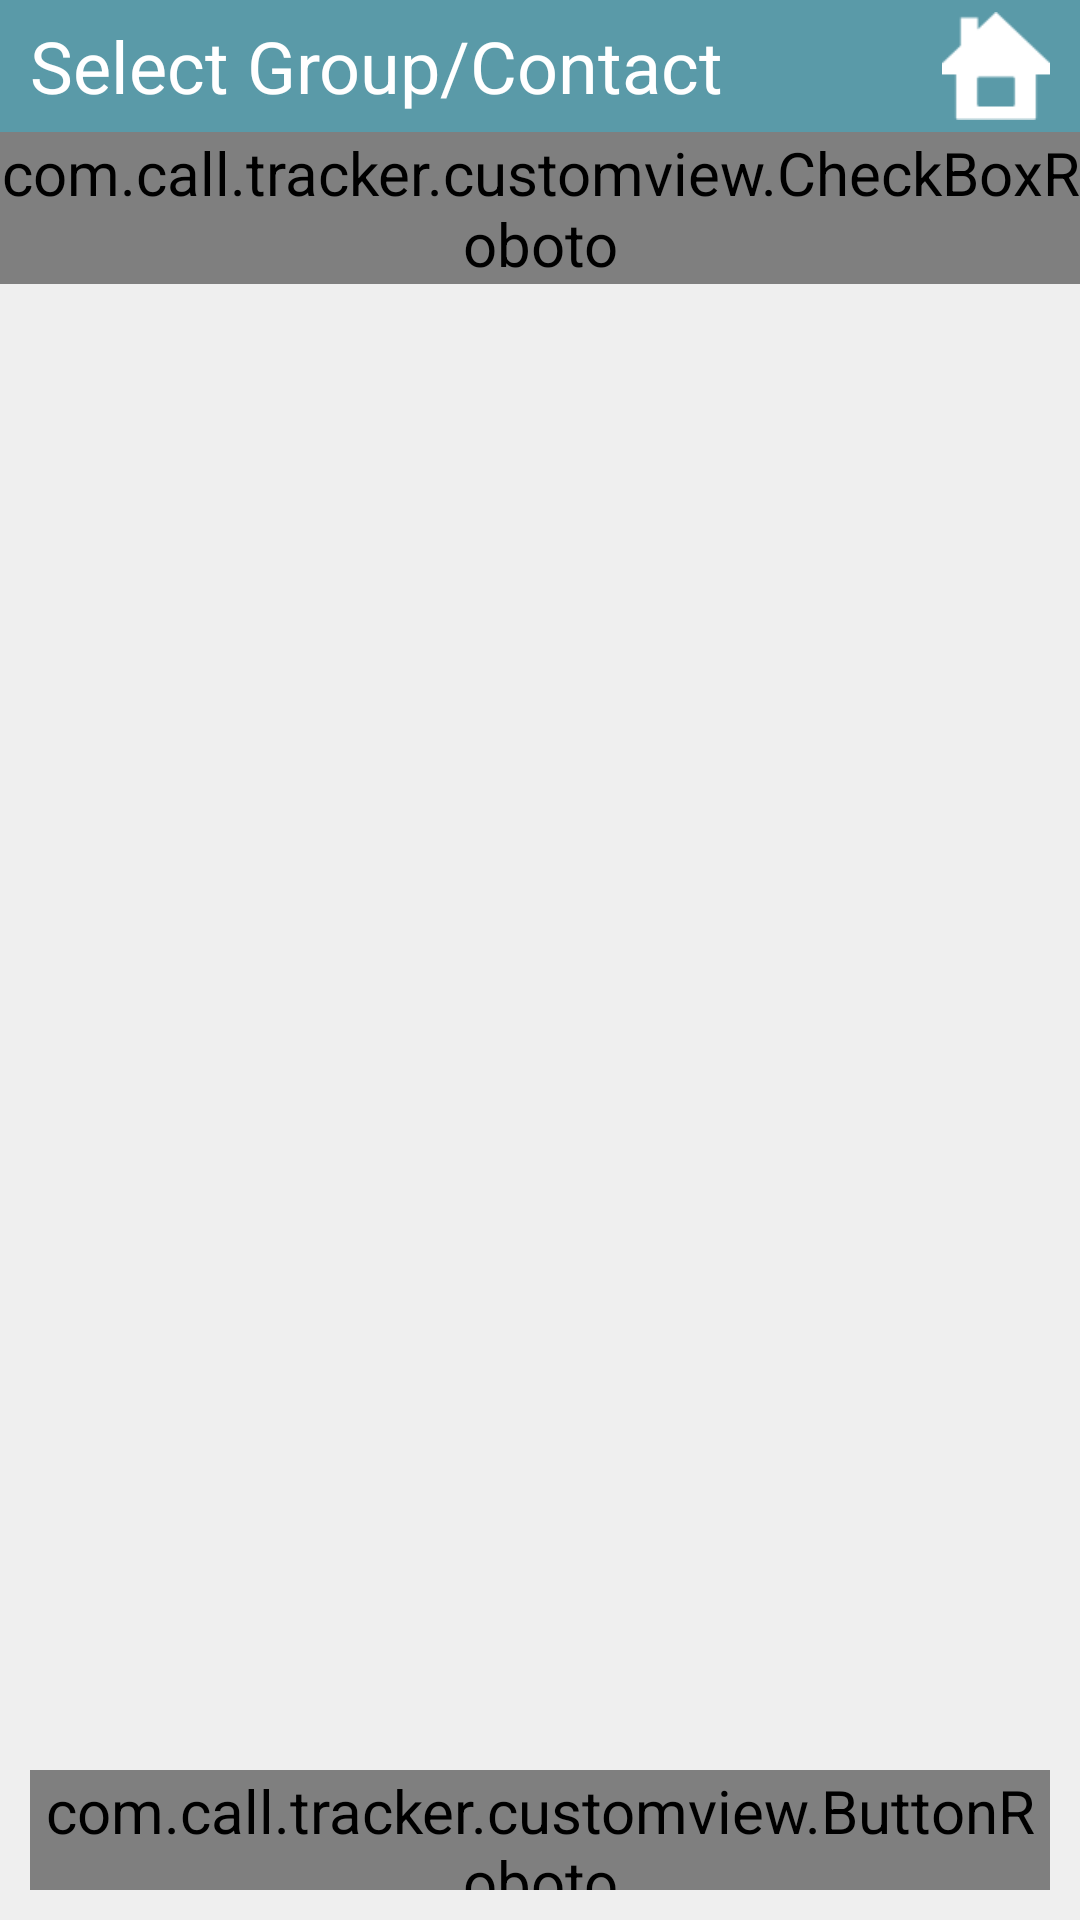

Icons on this 1080×1920 Android screen, each with its box as detection(x1, y1, x2, y2):
home: detection(942, 12, 1050, 120)
